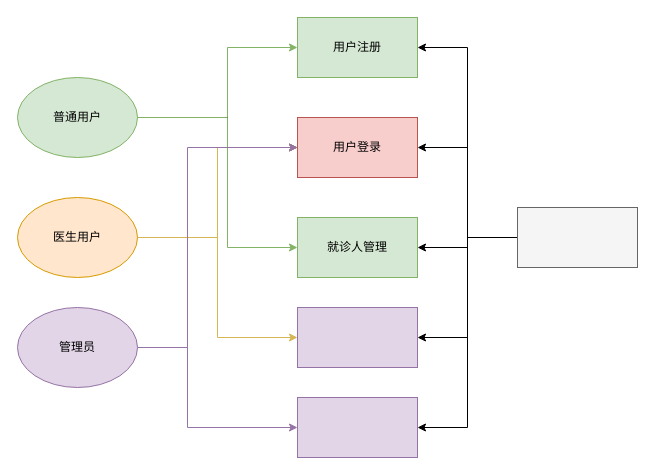
Image size: 655x475. Some labels were removed from this diagram. Here are the shapes that lost their labels. From the top down, the centre of each, then its label:
At [577,237]: "用户管理模块".
At [357,337]: "查看门下就诊人".
At [357,427]: "医生用户管理".
